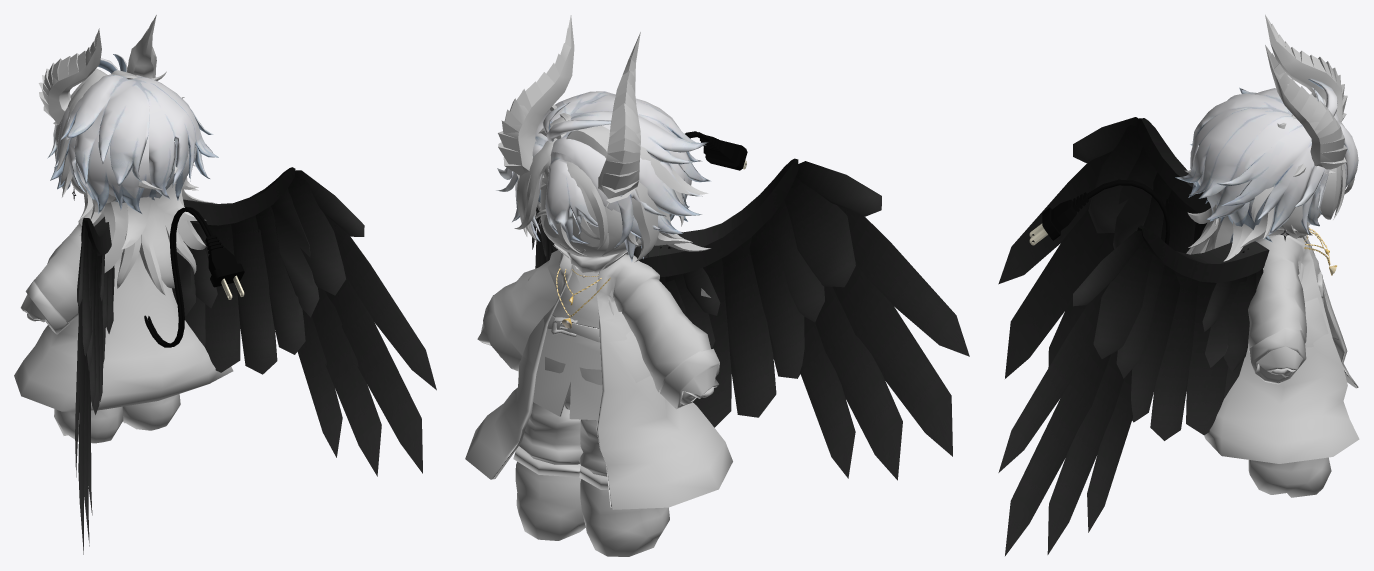
Rendered from zazel.obj.
3 renders of one model, left to right at view 1: azimuth 30°, elevation 25°; view 2: azimuth 150°, elevation 25°; view 3: azimuth 270°, elevation 25°, orthographic. The views are drawn at different scales.
Parts seen in each view (by area): view 1: Handle8, Handle1, Handle3, Handle4, Handle6, Handle7; view 2: Handle1, Handle8, Handle3, Handle6, Handle4, Rig4, Handle7; view 3: Handle8, Handle1, Handle3, Handle6, Handle4, Handle7.
Boxes of the visible parts, x1,y1,x2,y2 form: Handle8: (75, 167, 436, 554); Handle1: (14, 206, 233, 443); Handle3: (47, 54, 218, 213); Handle4: (55, 69, 213, 295); Handle6: (39, 15, 156, 125); Handle7: (144, 207, 244, 347); Handle1: (465, 244, 732, 556); Handle8: (532, 158, 969, 480); Handle3: (496, 91, 711, 261); Handle6: (498, 15, 640, 202); Handle4: (514, 104, 710, 297); Rig4: (536, 185, 641, 257); Handle7: (685, 131, 747, 170); Handle8: (998, 117, 1269, 555); Handle1: (1204, 227, 1359, 497); Handle3: (1175, 78, 1358, 242); Handle6: (1265, 14, 1347, 173); Handle4: (1184, 97, 1354, 261); Handle7: (1029, 179, 1169, 245).
Size of the model in its own units: 4.83 by 5.34 by 3.9.
